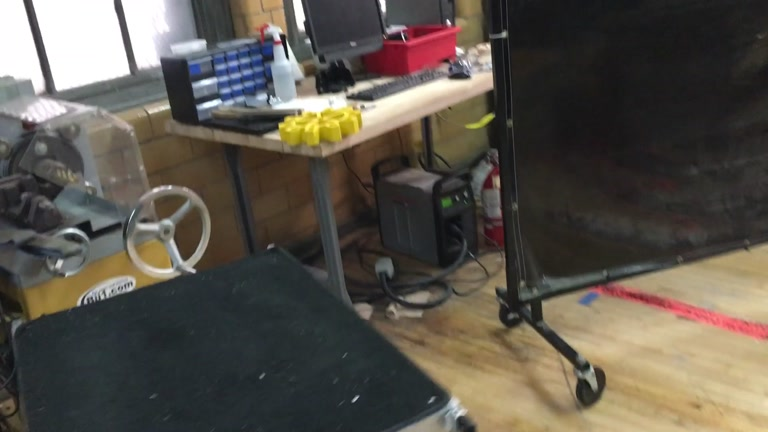gear: (278, 104, 362, 146)
